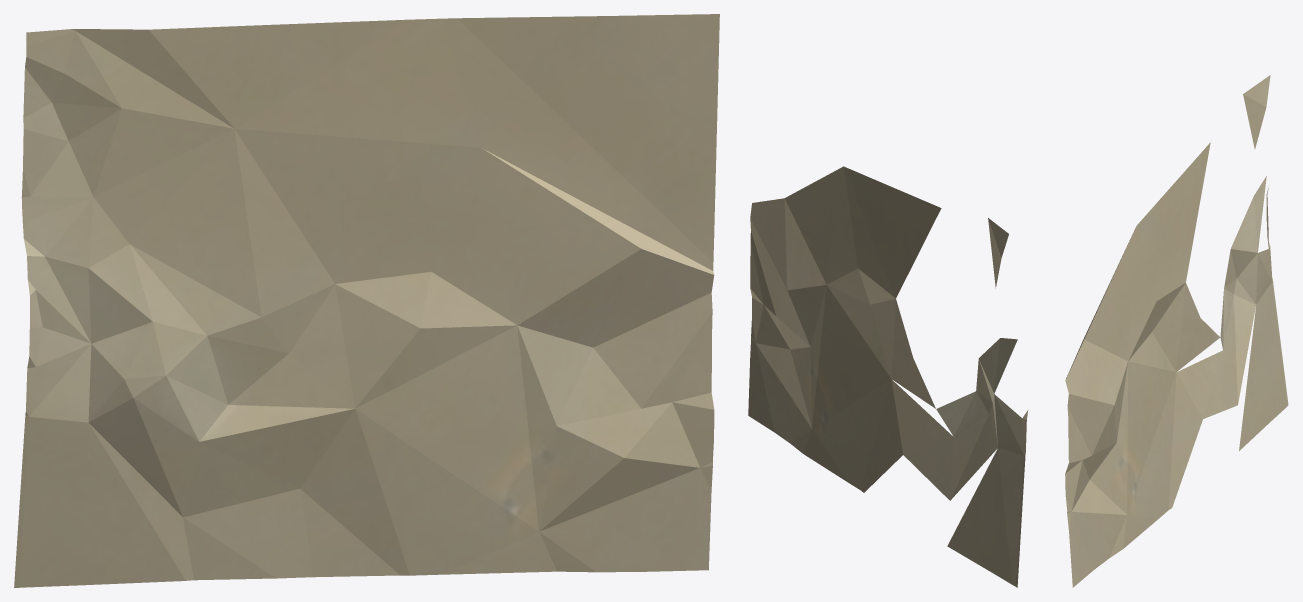
3 views of the same model, side by side, from view 1: azimuth 30°, elevation 25°; view 2: azimuth 150°, elevation 25°; view 3: azimuth 270°, elevation 25° (orthographic). The views are drawn at different scales.
Size of the model in its own units: 1.67 by 1.67 by 0.896.
Materials: 3 (3 with a texture image).
